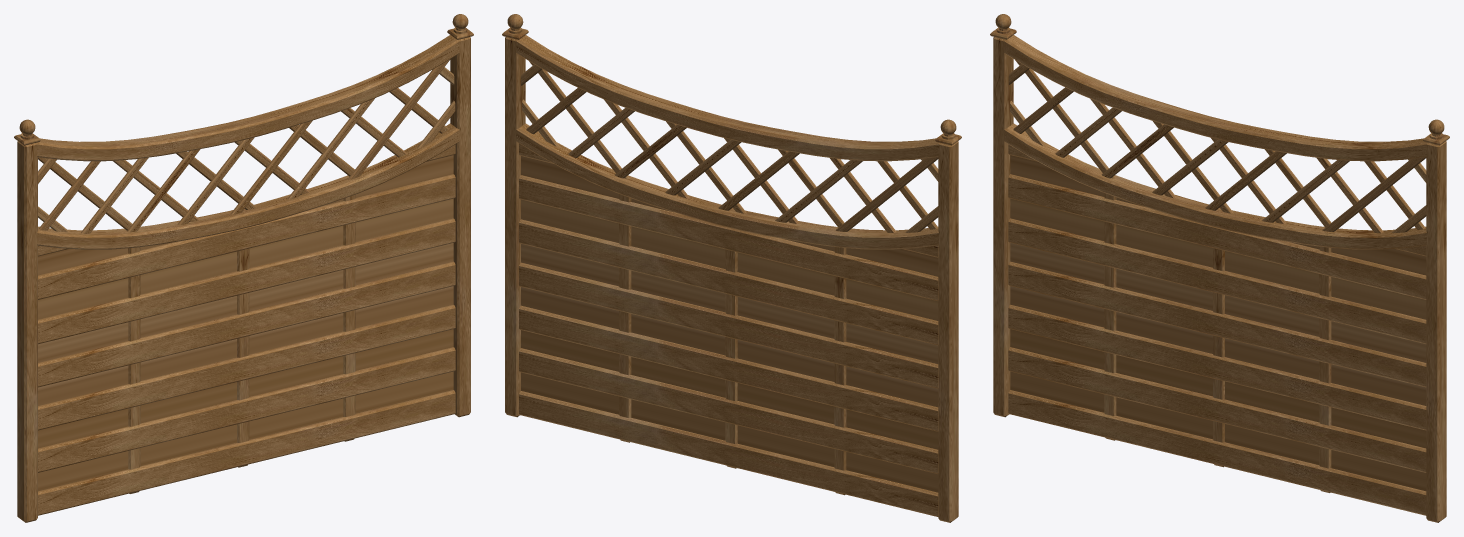
The model's file is fence_wood_15f4dbf8.glb.
3 views of the same model, side by side, from view 1: azimuth 30°, elevation 25°; view 2: azimuth 150°, elevation 25°; view 3: azimuth 330°, elevation 25° (orthographic).
Parts seen in each view (by area): view 1: fence_wood_15f4dbf8; view 2: fence_wood_15f4dbf8; view 3: fence_wood_15f4dbf8.
Part boxes in pixels (box(x1,y1,x2,y2)): fence_wood_15f4dbf8: box(14, 14, 473, 522); fence_wood_15f4dbf8: box(502, 14, 961, 522); fence_wood_15f4dbf8: box(990, 14, 1449, 522).
Size of the model in its own units: 1.87 by 1.59 by 0.0706.
Materials: 1 (1 with a texture image).
